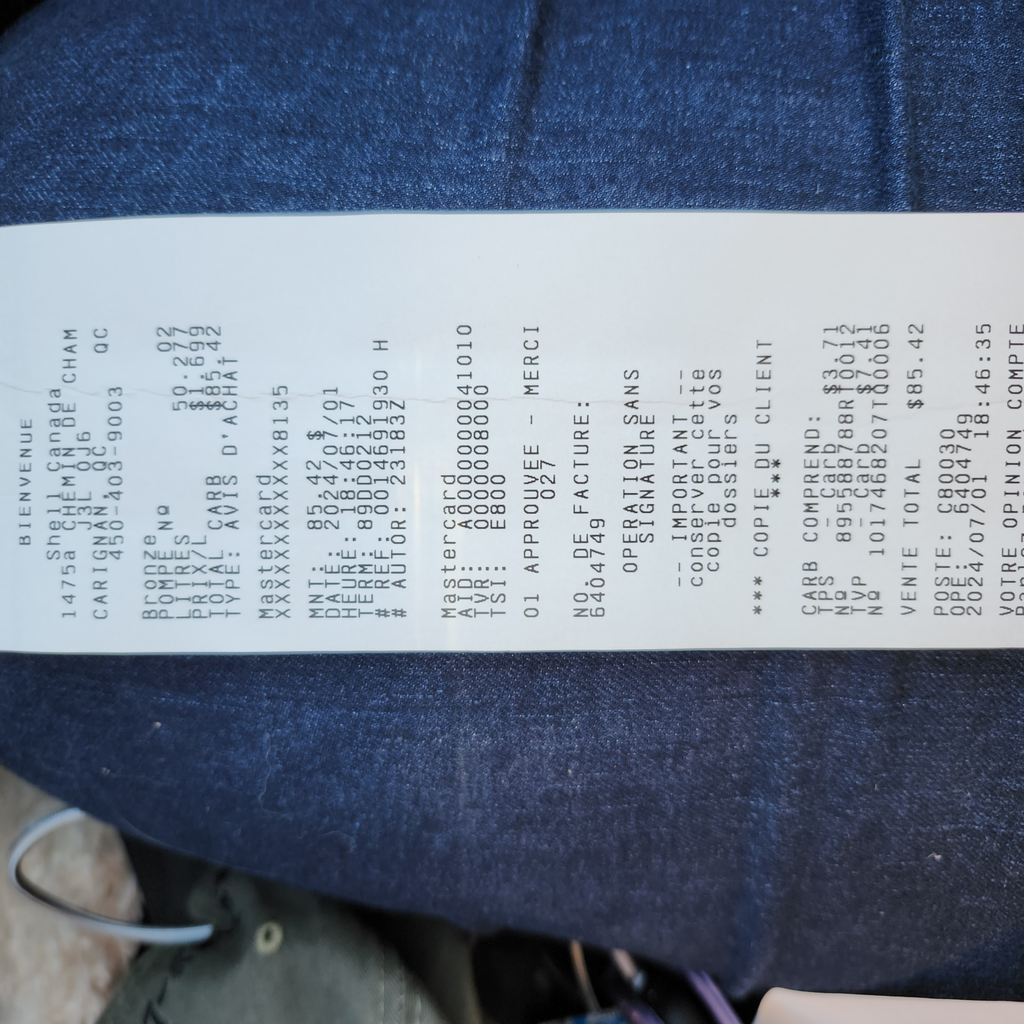recipt: (0, 208, 1024, 657)
